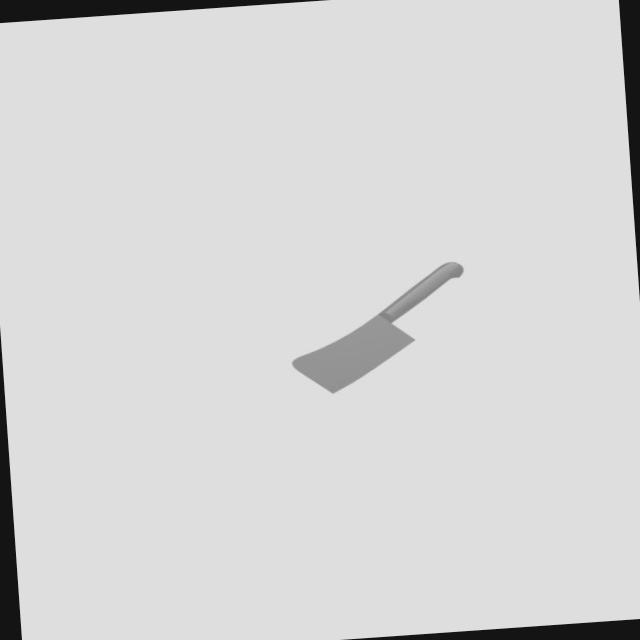knife: (374, 260, 468, 322)
